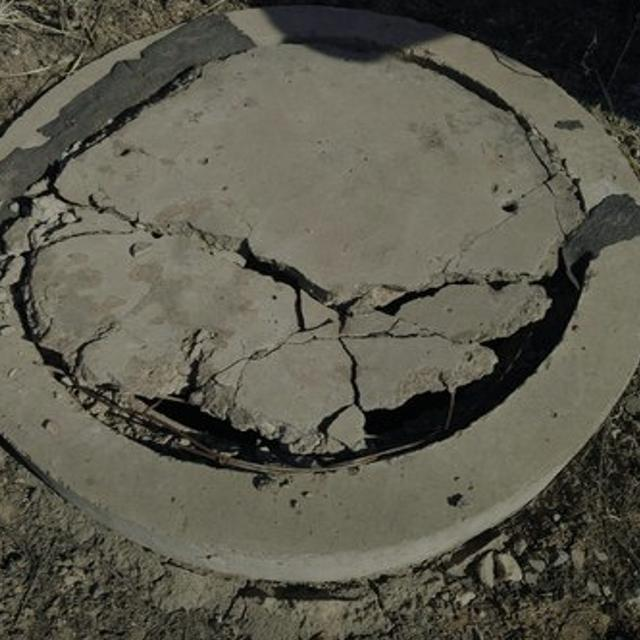broke: (0, 0, 635, 569)
